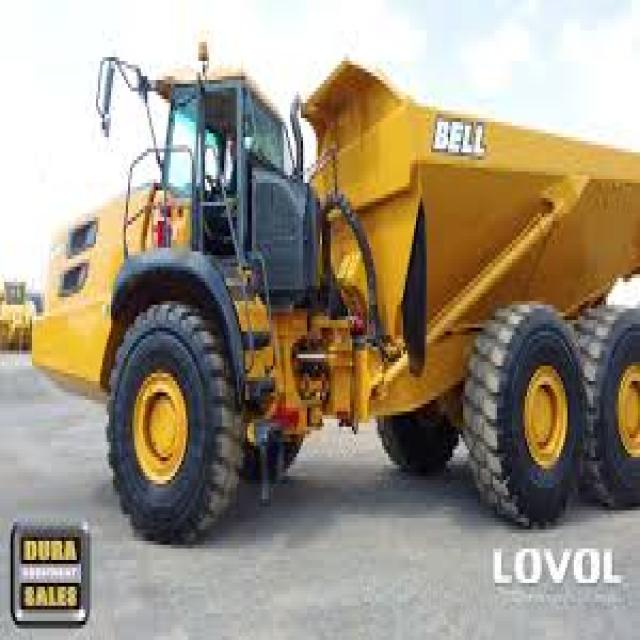dump_truck: (28, 11, 638, 568)
